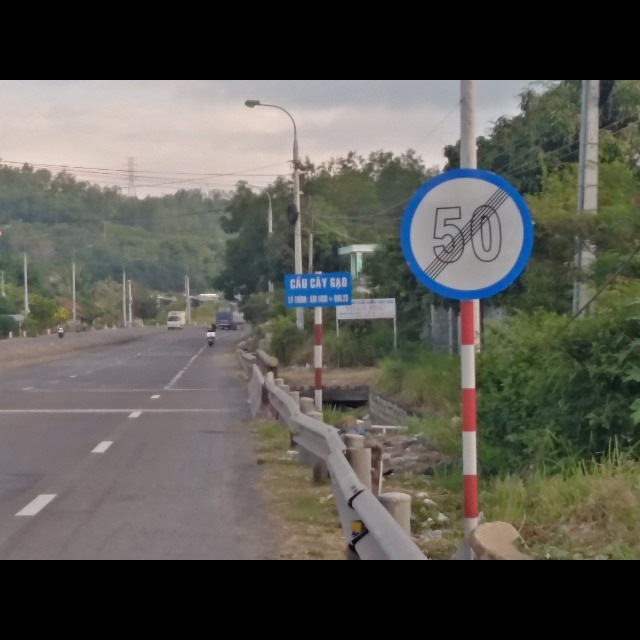Hết hạn chế tốc độ tối đa 50km/h: (400, 165, 537, 300)
